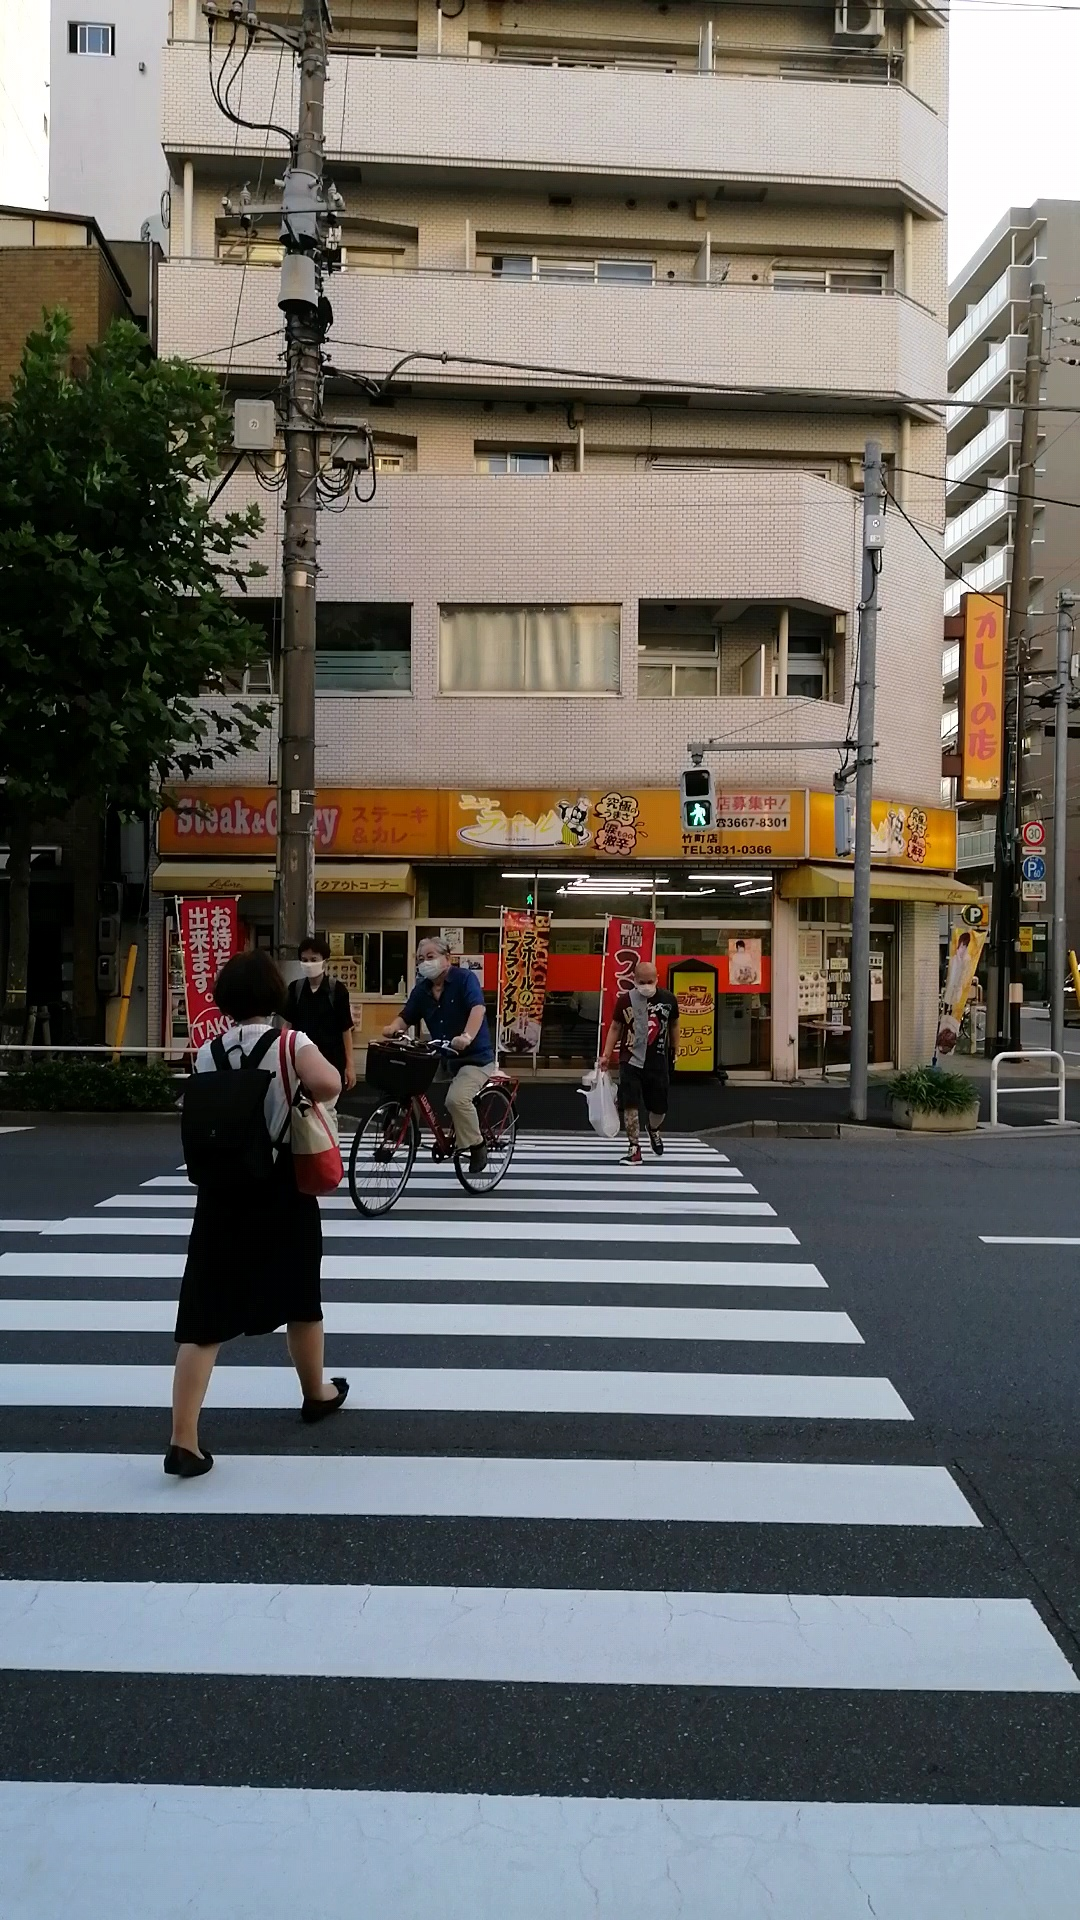green: (682, 767, 715, 831)
